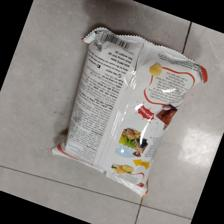Lays: (48, 24, 212, 199)
